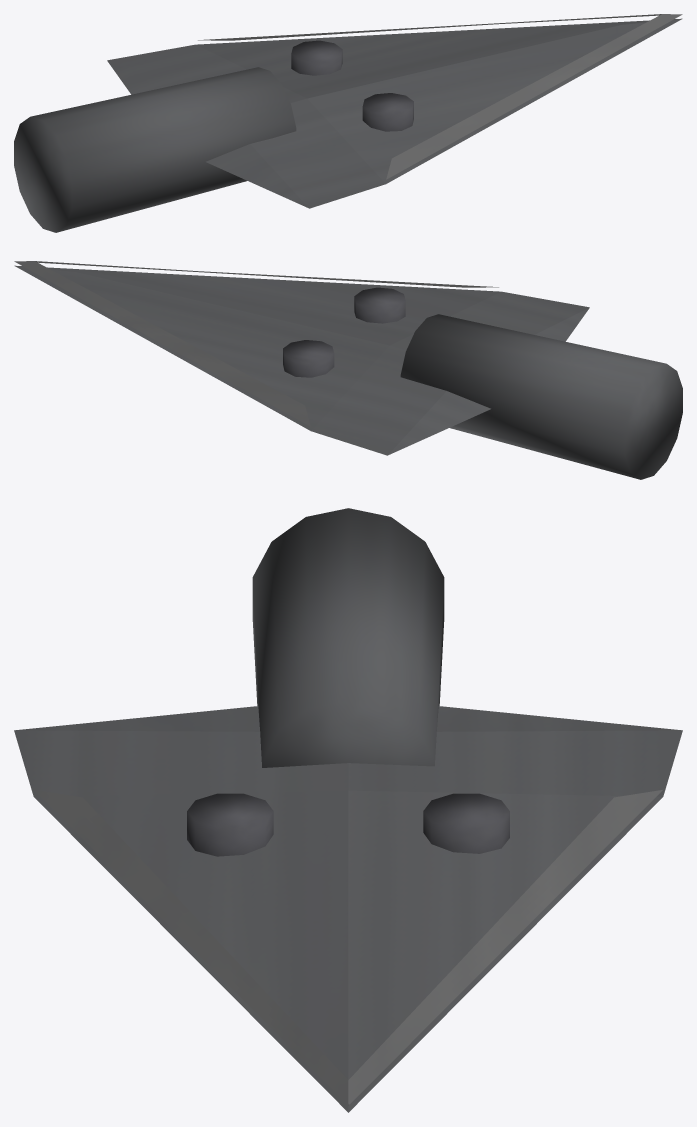
Rendered from FL_ArrowheadBroadhead.fbx.
3 views of the same model, one above another, from view 1: azimuth 30°, elevation 25°; view 2: azimuth 150°, elevation 25°; view 3: azimuth 270°, elevation 25° (orthographic). The views are drawn at different scales.
Parts seen in each view (by area): view 1: FL_ArrowheadBroadhead; view 2: FL_ArrowheadBroadhead; view 3: FL_ArrowheadBroadhead.
Boxes of the visible parts, x1=… form: FL_ArrowheadBroadhead: x1=14, y1=14, x2=682, y2=232; FL_ArrowheadBroadhead: x1=14, y1=261, x2=682, y2=479; FL_ArrowheadBroadhead: x1=14, y1=508, x2=682, y2=1112.
Bounding box in the file's own units: 0.00517 × 0.000833 × 0.00283.
